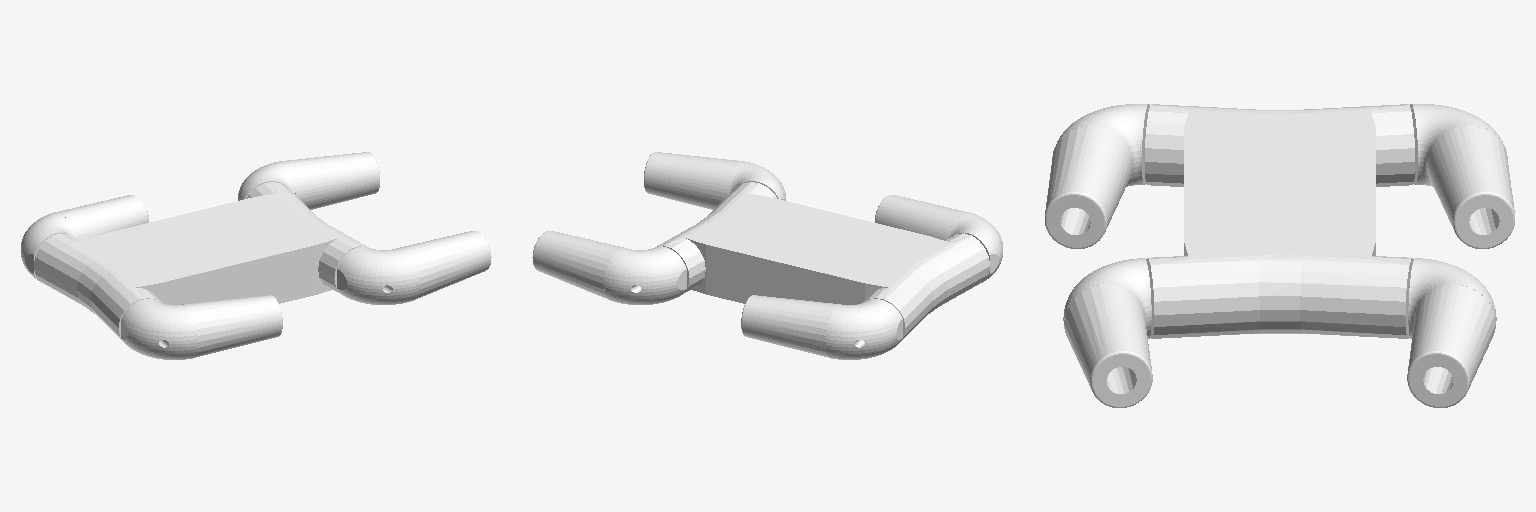
URDF robot description (7_degree):
<?xml version="1.0" encoding="utf-8"?>
<!-- This URDF was automatically created by SolidWorks to URDF Exporter! Originally created by [author] ([email redacted]) 
     Commit Version: 1.5.1-0-g916b5db  Build Version: 1.5.7152.31018
     For more information, please see http://wiki.ros.org/sw_urdf_exporter -->
<robot
  name="7_degree">
  <link
    name="base_link">
    <inertial>
      <origin
        xyz="-6.9389E-18 2.7246E-08 3.4694E-18"
        rpy="0 0 0" />
      <mass
        value="2.803" />
      <inertia
        ixx="0.010254621"
        ixy="-3.3555E-18"
        ixz="-8.7281E-11"
        iyy="0.037383618"
        iyz="-2.2837E-18"
        izz="0.045277063" />
    </inertial>
    <visual>
      <origin
        xyz="0 0 0"
        rpy="0 0 0" />
      <geometry>
        <mesh
          filename="package://7_degree/meshes/base_link.STL" />
      </geometry>
      <material
        name="">
        <color
          rgba="1 1 1 1" />
      </material>
    </visual>
    <collision>
      <origin
        xyz="0 0 0"
        rpy="0 0 0" />
      <geometry>
        <mesh
          filename="package://7_degree/meshes/base_link.STL" />
      </geometry>
    </collision>
  </link>
  <link
    name="left_fromt_link">
    <inertial>
      <origin
        xyz="-2.7896E-08 0.057624 -0.029074"
        rpy="0 0 0" />
      <mass
        value="0.0826" />
      <inertia
        ixx="0.000213604"
        ixy="5.1589E-10"
        ixz="7.1578E-10"
        iyy="0.000045219"
        iyz="-0.528E-06"
        izz="0.000213371" />
    </inertial>
    <visual>
      <origin
        xyz="0 0 0"
        rpy="0 0 0" />
      <geometry>
        <mesh
          filename="package://7_degree/meshes/left_fromt_link.STL" />
      </geometry>
      <material
        name="">
        <color
          rgba="1 1 1 1" />
      </material>
    </visual>
    <collision>
      <origin
        xyz="0 0 0"
        rpy="0 0 0" />
      <geometry>
        <mesh
          filename="package://7_degree/meshes/left_fromt_link.STL" />
      </geometry>
    </collision>
  </link>
  <joint
    name="left_front_leg"
    type="continuous">
    <origin
      xyz="0.14255 0.10223 0"
      rpy="1.5708 1.5708 0" />
    <parent
      link="base_link" />
    <child
      link="left_fromt_link" />
    <axis
      xyz="0 0.12187 -0.99255" />
    <limit
      effort="5"
      velocity="487" />
  </joint>
  <link
    name="right_front_link">
    <inertial>
      <origin
        xyz="2.7896E-08 0.057624 0.029074"
        rpy="0 0 0" />
      <mass
        value="0.0826" />
      <inertia
        ixx="0.000213604"
        ixy="-5.1589E-10"
        ixz="7.1578E-10"
        iyy="0.000045219"
        iyz="0.528E-06"
        izz="0.000213371" />
    </inertial>
    <visual>
      <origin
        xyz="0 0 0"
        rpy="0 0 0" />
      <geometry>
        <mesh
          filename="package://7_degree/meshes/right_front_link.STL" />
      </geometry>
      <material
        name="">
        <color
          rgba="1 1 1 1" />
      </material>
    </visual>
    <collision>
      <origin
        xyz="0 0 0"
        rpy="0 0 0" />
      <geometry>
        <mesh
          filename="package://7_degree/meshes/right_front_link.STL" />
      </geometry>
    </collision>
  </link>
  <joint
    name="right_front_leg"
    type="continuous">
    <origin
      xyz="0.14255 -0.10223 0"
      rpy="1.5708 1.5708 0" />
    <parent
      link="base_link" />
    <child
      link="right_front_link" />
    <axis
      xyz="0 0.12187 0.99255" />
    <limit
      effort="5"
      velocity="487" />
  </joint>
  <link
    name="right_back_link">
    <inertial>
      <origin
        xyz="6.1997E-09 0.053651 0.03588"
        rpy="0 0 0" />
      <mass
        value="0.0826" />
      <inertia
        ixx="0.000213604"
        ixy="-4.4537E-10"
        ixz="4.9553E-10"
        iyy="0.000047589"
        iyz="-1.9827E-05"
        izz="0.000211001" />
    </inertial>
    <visual>
      <origin
        xyz="0 0 0"
        rpy="0 0 0" />
      <geometry>
        <mesh
          filename="package://7_degree/meshes/right_back_link.STL" />
      </geometry>
      <material
        name="">
        <color
          rgba="1 1 1 1" />
      </material>
    </visual>
    <collision>
      <origin
        xyz="0 0 0"
        rpy="0 0 0" />
      <geometry>
        <mesh
          filename="package://7_degree/meshes/right_back_link.STL" />
      </geometry>
    </collision>
  </link>
  <joint
    name="right_back_leg"
    type="continuous">
    <origin
      xyz="-0.14255 -0.10223 0"
      rpy="1.693 1.5708 0" />
    <parent
      link="base_link" />
    <child
      link="right_back_link" />
    <axis
      xyz="0 0 1" />
    <limit
      effort="5"
      velocity="487" />
  </joint>
  <link
    name="left_back_link">
    <inertial>
      <origin
        xyz="-6.1997E-09 0.048879 -0.042151"
        rpy="0 0 0" />
      <mass
        value="0.0826" />
      <inertia
        ixx="0.000213604"
        ixy="5.0244E-10"
        ixz="4.3756E-10"
        iyy="0.000054812"
        iyz="0.000039005"
        izz="0.000203778" />
    </inertial>
    <visual>
      <origin
        xyz="0 0 0"
        rpy="0 0 0" />
      <geometry>
        <mesh
          filename="package://7_degree/meshes/left_back_link.STL" />
      </geometry>
      <material
        name="">
        <color
          rgba="1 1 1 1" />
      </material>
    </visual>
    <collision>
      <origin
        xyz="0 0 0"
        rpy="0 0 0" />
      <geometry>
        <mesh
          filename="package://7_degree/meshes/left_back_link.STL" />
      </geometry>
    </collision>
  </link>
  <joint
    name="left_back_leg"
    type="continuous">
    <origin
      xyz="-0.14255 0.10223 0"
      rpy="1.5708 1.5708 0" />
    <parent
      link="base_link" />
    <child
      link="left_back_link" />
    <axis
      xyz="0 -0.12187 -0.99255" />
    <limit
      effort="5"
      velocity="487" />
  </joint>
</robot>

--- Facts derived from the render (not from the file) ---
3 views of the same robot in one strip: view 1: azimuth 30°, elevation 25°; view 2: azimuth 150°, elevation 25°; view 3: azimuth 270°, elevation 25° (orthographic).
Model 7_degree with 5 links and 4 joints (4 continuous), rooted at base_link, posed every joint at zero.
Links seen in each view (by area): view 1: base_link, right_back_link, right_front_link, left_fromt_link, left_back_link; view 2: base_link, left_back_link, left_fromt_link, right_front_link, right_back_link; view 3: base_link, left_back_link, right_back_link, left_fromt_link, right_front_link.
Link boxes in pixels (<box>): base_link: <box>34,182,366,340</box>; right_back_link: <box>121,295,282,359</box>; right_front_link: <box>337,231,491,304</box>; left_fromt_link: <box>238,152,379,209</box>; left_back_link: <box>21,195,148,282</box>; base_link: <box>657,182,989,340</box>; left_back_link: <box>741,295,902,359</box>; left_fromt_link: <box>532,231,686,304</box>; right_front_link: <box>644,152,785,209</box>; right_back_link: <box>875,195,1002,282</box>; base_link: <box>1145,104,1414,338</box>; left_back_link: <box>1410,104,1514,248</box>; right_back_link: <box>1045,104,1149,248</box>; left_fromt_link: <box>1407,258,1496,407</box>; right_front_link: <box>1063,258,1152,407</box>.
Size in the robot's own frame: 0.472 by 0.3692 by 0.064 metres.
Meshes: 5 distinct files referenced, 5 mesh visuals loaded (5 binary STL).